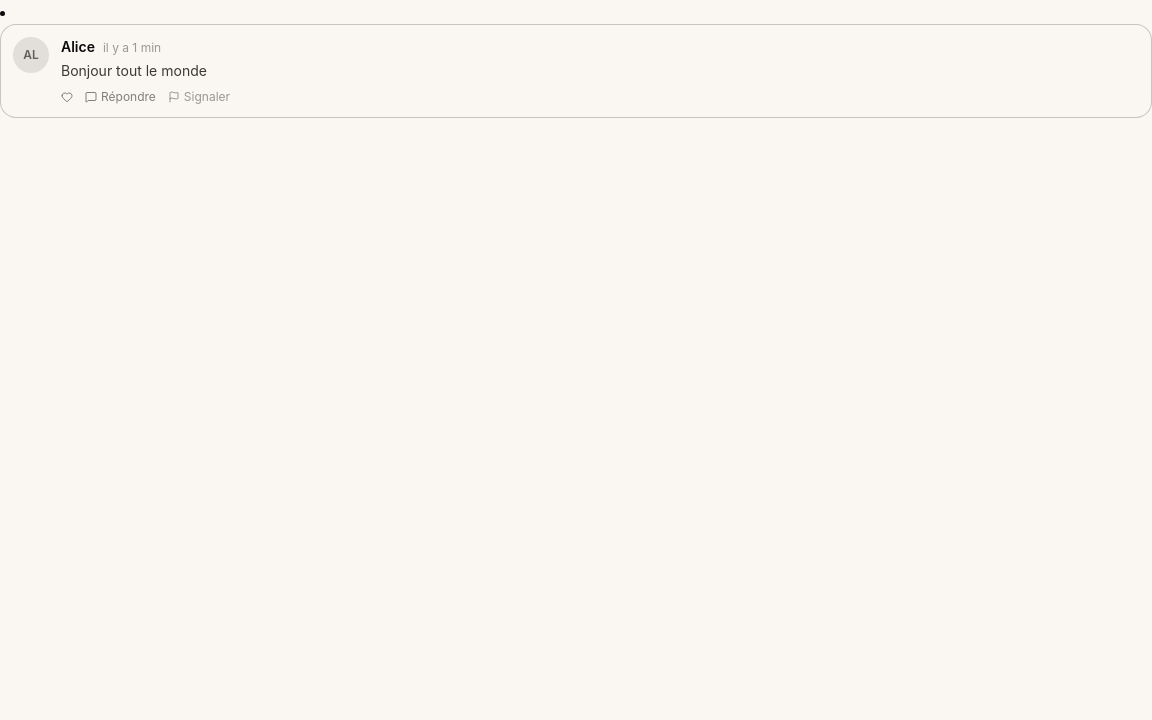
Test: CommentItem › clicking Signaler opens the ReportModal with target=comment (SCRUM-147)
This screenshot has width=1152, height=720.
Click the button "Signaler". click: (199, 97)
box: x1=168 y1=89 x2=230 y2=105
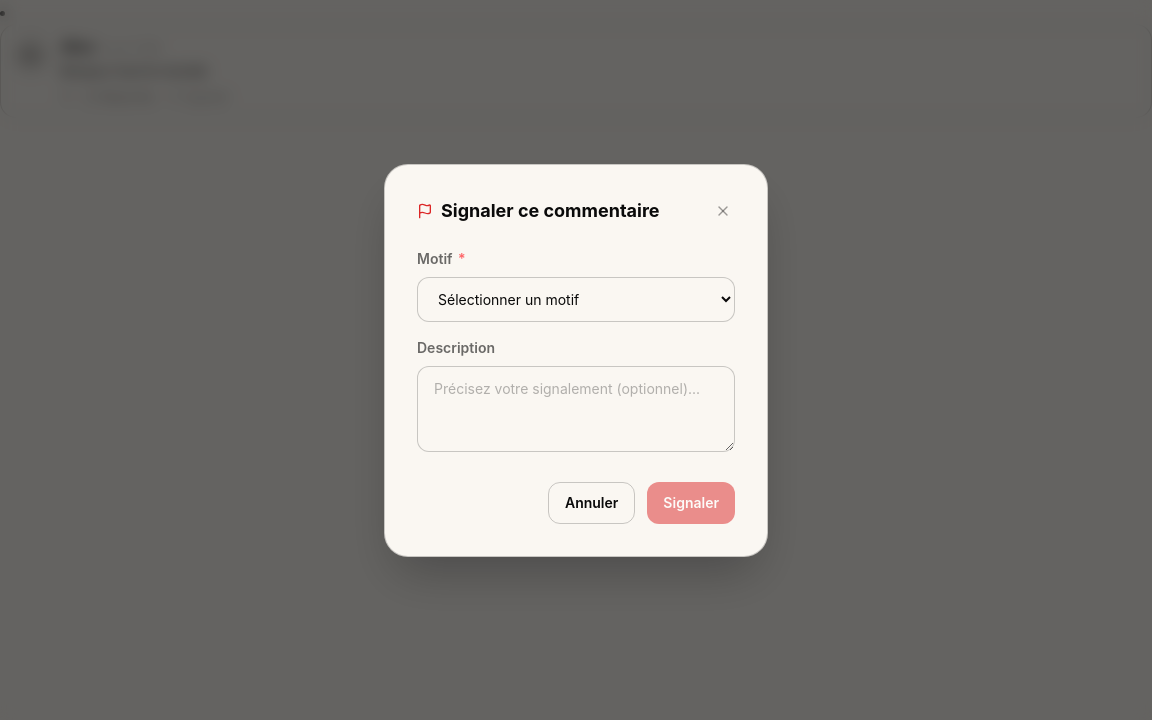
Result: the heading "Signaler ce commentaire" is shown at x1=441 y1=196 x2=660 y2=224
